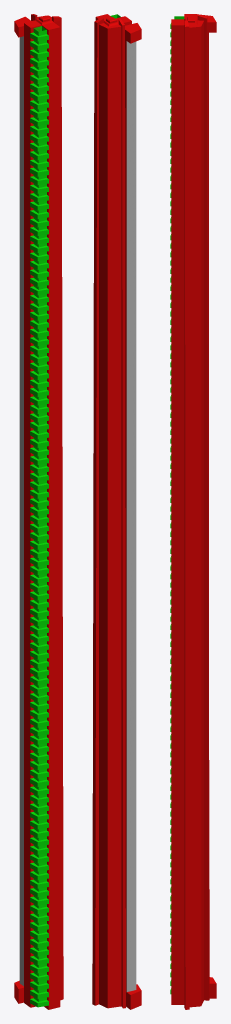
The model's file is Rail_Tall.fbx.
3 views of the same model, side by side, from view 1: azimuth 30°, elevation 25°; view 2: azimuth 210°, elevation 25°; view 3: azimuth 270°, elevation 25° (orthographic).
Parts seen in each view (by area): view 1: Elevator_Beam_Tall, Elevator_Rail_Tall, pCube1; view 2: Elevator_Beam_Tall, pCube1; view 3: Elevator_Beam_Tall, Elevator_Rail_Tall, pCube1.
Boxes of the visible parts, <box> form: Elevator_Beam_Tall: <box>24,14,63,1009</box>; Elevator_Rail_Tall: <box>30,26,48,1007</box>; pCube1: <box>14,16,31,1003</box>; Elevator_Beam_Tall: <box>92,14,131,1008</box>; pCube1: <box>125,23,141,1009</box>; Elevator_Beam_Tall: <box>171,14,209,1009</box>; Elevator_Rail_Tall: <box>170,16,184,994</box>; pCube1: <box>198,14,216,998</box>.
Size of the model in its own units: 1.69 by 1.74 by 40.87.
